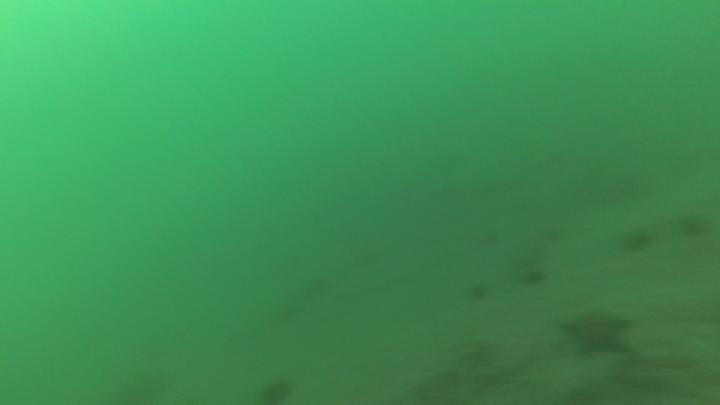echinus: (617, 225, 656, 257), (256, 375, 296, 404), (675, 210, 710, 242), (462, 279, 492, 305), (519, 264, 548, 289)
starfish: (558, 305, 636, 359)
